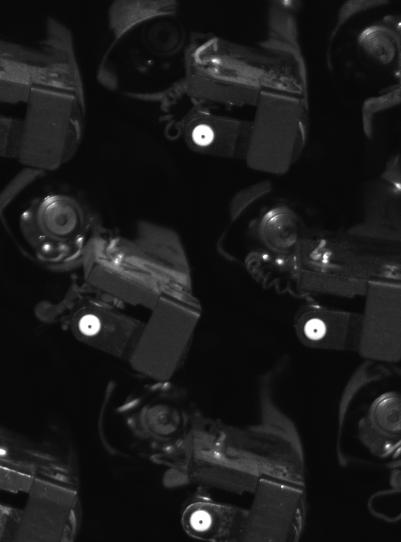fiber: (186, 507, 220, 538), (186, 121, 219, 150), (300, 314, 332, 343), (75, 310, 105, 339)
